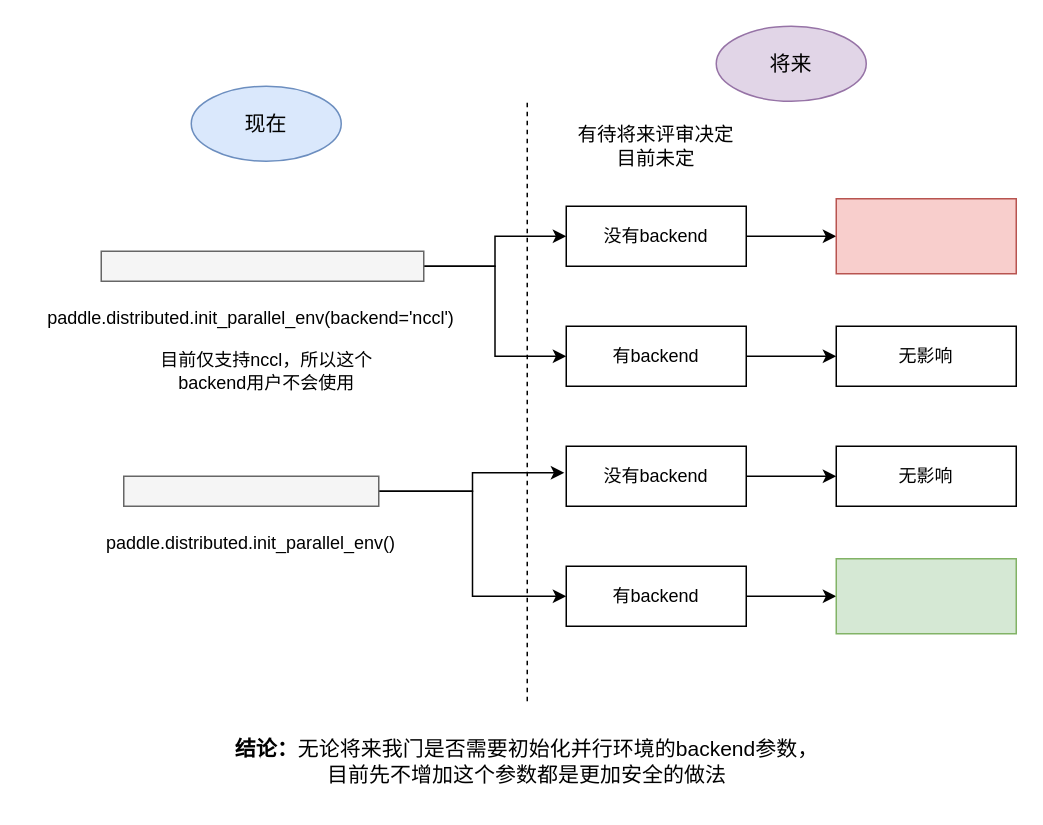
The diagram is 1043 pixels wide and 825 high, and some of its shapes have lost their labels. Here are the shapes that lost their labels. From the top down, the centre of each, then its label:
the point at 925,235: 去掉原有参数 不兼容升级
the point at 262,265: 现在保留backend（可选）参数
the point at 250,490: 现在去掉backend参数
the point at 925,595: 增加backend参数 兼容升级
